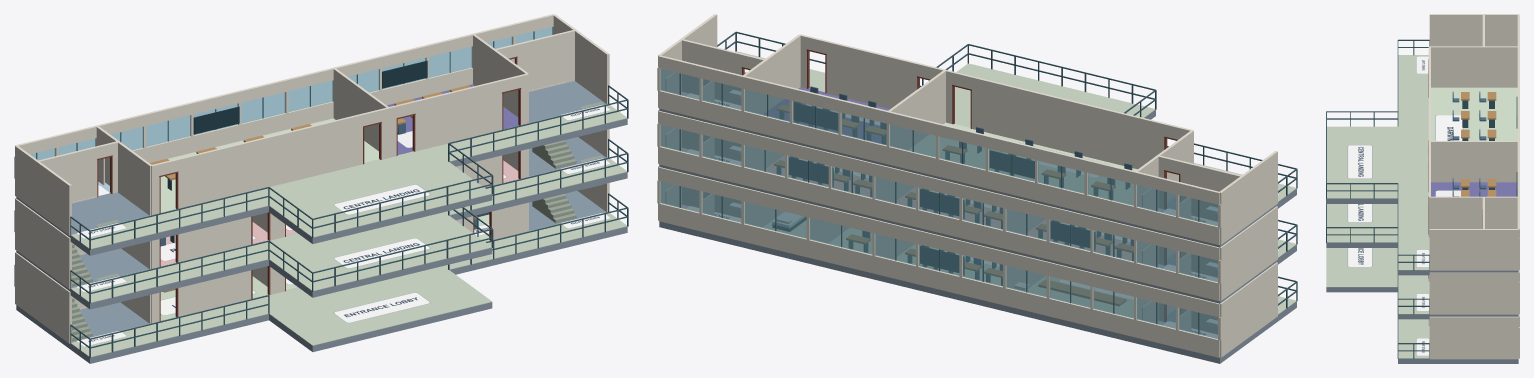
File: ynares-rooms.glb
The picture shows the model from 3 angles, left to right: view 1: azimuth 30°, elevation 25°; view 2: azimuth 150°, elevation 25°; view 3: azimuth 270°, elevation 25°; orthographic projection. The views are drawn at different scales.
Visible parts, largest first — view 1: front-wall (×8), corridor (×3), floor-slab (×3), central-landing (×3), side-wall (×6), partition (×7), window-head-wall (×4), window-sill-wall (×2), window (×5), room-floor (×2), teaching-board (×2), label-0-lobby (+2 smaller); view 2: window (×37), window-sill-wall (×15), window-head-wall (×15), front-wall (×6), partition (×12), floor-slab (×3), side-wall (×4), room-floor (×3), teaching-board (×6), central-landing, corridor, lab-bench; view 3: side-wall (×4), partition (×5), central-landing (×3), corridor (×3), room-floor (×2), floor-slab (×3), label-2-lobby, label-2-ynares-f2-darwin, label-0-lobby, label-1-lobby, window-head-wall (×2), label-1-right-stairs (+5 smaller).
Part boxes in pixels (x1,y1,x2,y2): front-wall (×8): (38,29,575,316); corridor (×3): (71,104,627,357); floor-slab (×3): (16,81,627,363); central-landing (×3): (269,161,492,345); side-wall (×6): (15,14,609,343); partition (×7): (15,34,528,323); window-head-wall (×4): (15,14,553,154); window-sill-wall (×2): (132,67,472,162); window (×5): (111,46,472,150); room-floor (×2): (160,84,518,212); teaching-board (×2): (193,60,427,134); label-0-lobby: (334,292,430,322); window (×37): (660,68,1217,338); window-sill-wall (×15): (658,90,1219,357); window-head-wall (×15): (658,55,1220,317); front-wall (×6): (681,39,1241,221); partition (×12): (742,34,1243,357); floor-slab (×3): (659,73,1296,363); side-wall (×4): (658,14,1277,356); room-floor (×3): (763,87,1137,317); teaching-board (×6): (789,102,1095,273); central-landing: (955,63,1155,117); corridor: (735,51,1296,201); lab-bench: (1038,279,1126,305); side-wall (×4): (1429,14,1518,359); partition (×5): (1429,14,1518,228); central-landing (×3): (1326,126,1397,287); corridor (×3): (1398,55,1429,358); room-floor (×2): (1431,87,1517,196); floor-slab (×3): (1326,198,1518,363); label-2-lobby: (1347,145,1372,178); label-2-ynares-f2-darwin: (1435,115,1463,140); label-0-lobby: (1347,248,1372,266); label-1-lobby: (1347,204,1372,222); window-head-wall (×2): (1517,46,1519,197); label-1-right-stairs: (1416,293,1429,311).
Size of the model in its own units: 32.15 by 9.34 by 12.2.
Materials: 32 (15 with a texture image).
